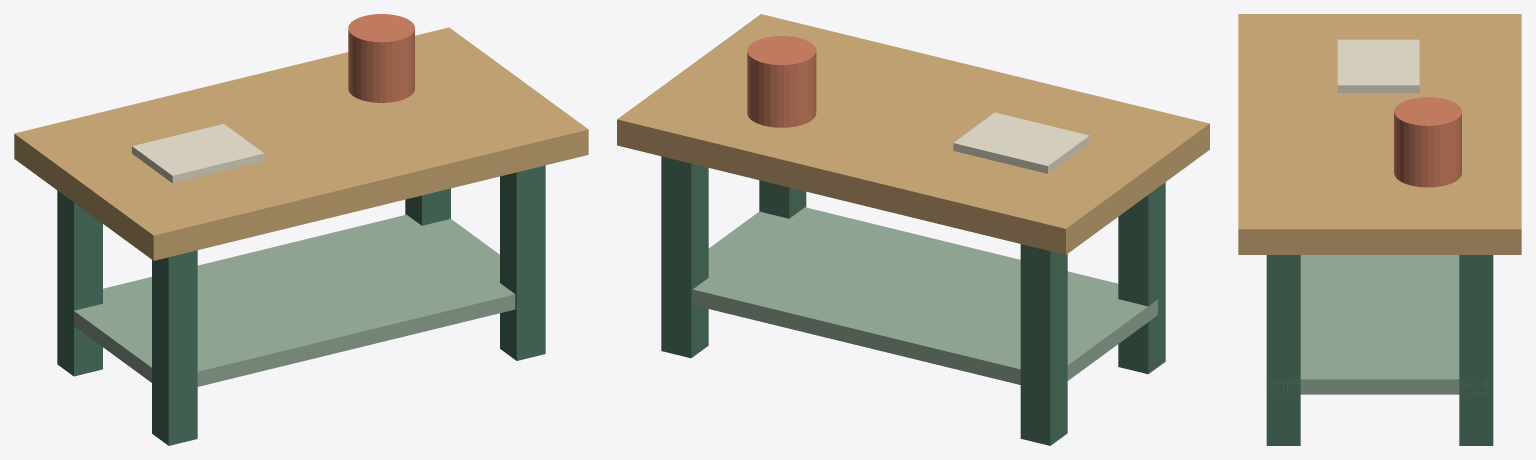
The model's file is a-little-workbench.glb.
3 renders of one model, left to right at view 1: azimuth 30°, elevation 25°; view 2: azimuth 150°, elevation 25°; view 3: azimuth 270°, elevation 25°, orthographic. The views are drawn at different scales.
Parts seen in each view (by area): view 1: Oak worktop, Lower shelf, Steel leg (×4), Reference cylinder, Sketch block; view 2: Oak worktop, Lower shelf, Steel leg (×4), Reference cylinder, Sketch block; view 3: Oak worktop, Lower shelf, Steel leg (×2), Reference cylinder, Sketch block.
Boxes of the visible parts, x1,y1,x2,y2 form: Oak worktop: [14, 27, 588, 260]; Lower shelf: [74, 214, 515, 386]; Steel leg (×4): [57, 165, 545, 445]; Reference cylinder: [348, 14, 414, 102]; Sketch block: [132, 124, 264, 183]; Oak worktop: [617, 14, 1209, 254]; Lower shelf: [692, 207, 1158, 384]; Steel leg (×4): [661, 156, 1165, 445]; Reference cylinder: [747, 36, 816, 127]; Sketch block: [953, 112, 1089, 173]; Oak worktop: [1238, 14, 1521, 254]; Lower shelf: [1271, 255, 1488, 394]; Steel leg (×2): [1266, 255, 1493, 445]; Reference cylinder: [1394, 97, 1461, 187]; Sketch block: [1337, 39, 1419, 92].
Size of the model in its own units: 0.18 by 0.114 by 0.1.
